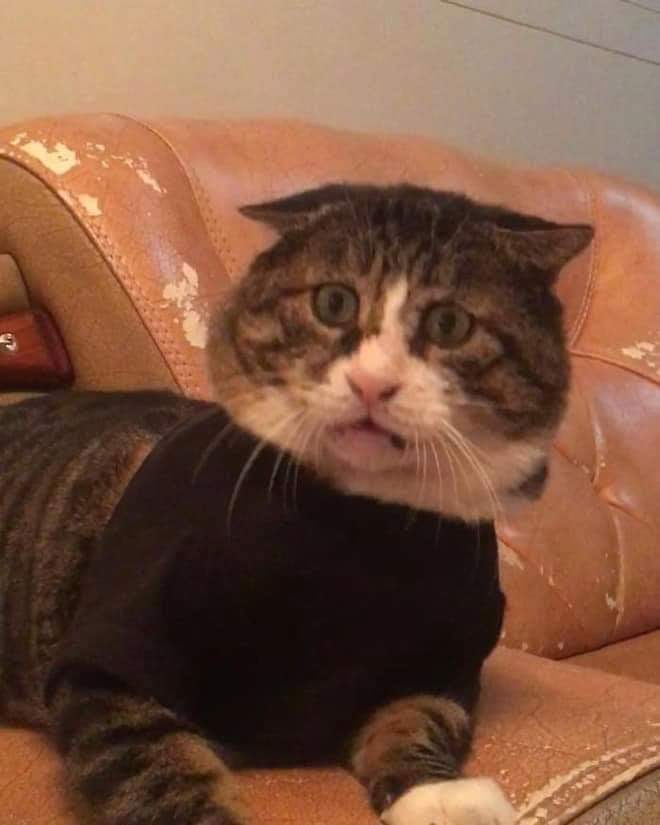cat: (1, 181, 595, 825)
